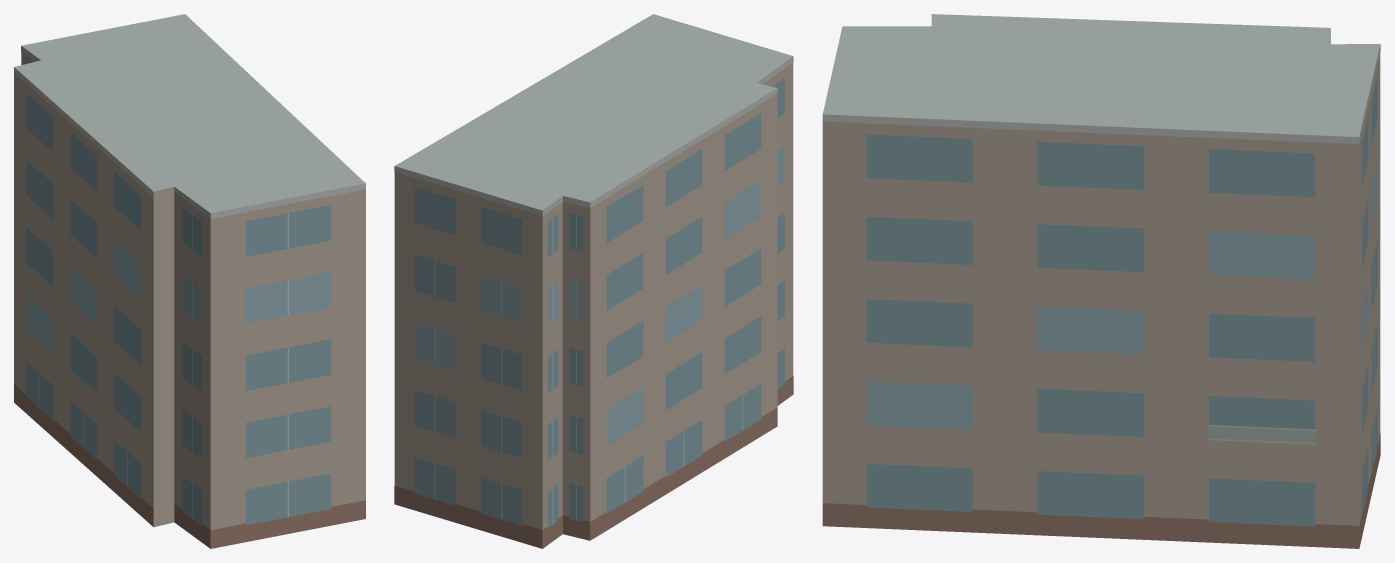
File: survey-upis-32661781.glb
3 views of the same model, side by side, from view 1: azimuth 30°, elevation 25°; view 2: azimuth 150°, elevation 25°; view 3: azimuth 270°, elevation 25° (orthographic). The views are drawn at different scales.
Parts seen in each view (by area): view 1: survey-upis-32661781.tmp; view 2: survey-upis-32661781.tmp; view 3: survey-upis-32661781.tmp.
Part boxes in pixels (x1,y1,x2,y2): survey-upis-32661781.tmp: (14, 14, 365, 548); survey-upis-32661781.tmp: (394, 14, 793, 548); survey-upis-32661781.tmp: (822, 14, 1380, 548).
Bounding box in the file's own units: 9.05 × 14.1 × 17.32.
